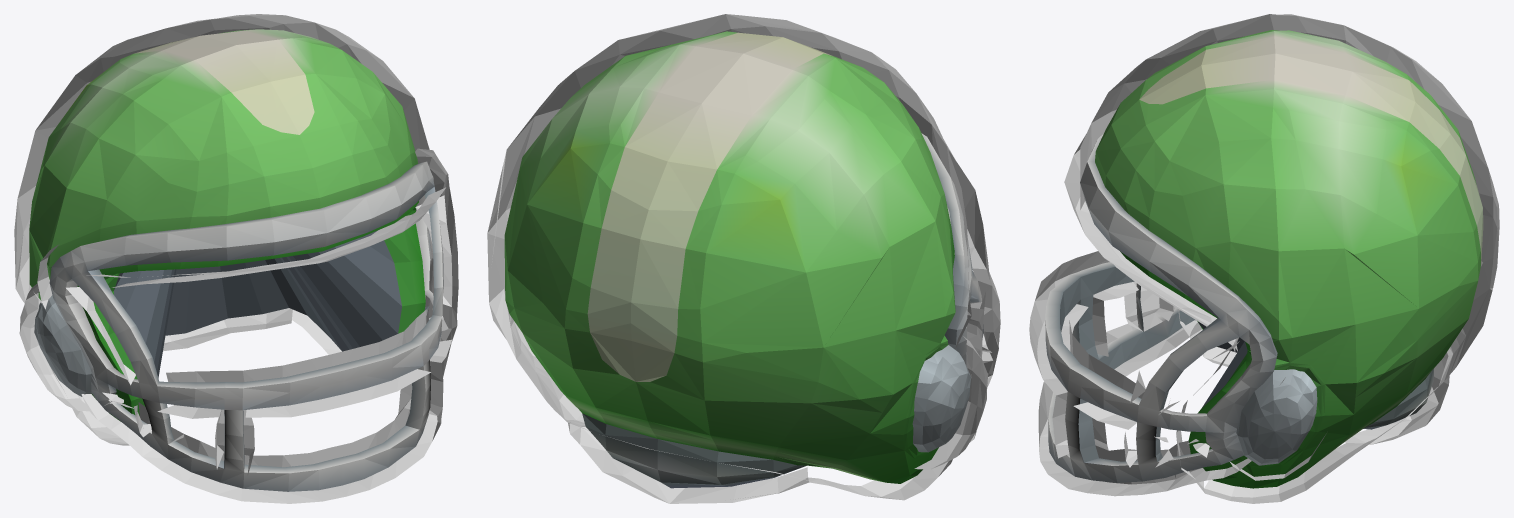
Rendered from Helmet.glb.
3 views of the same model, side by side, from view 1: azimuth 30°, elevation 25°; view 2: azimuth 150°, elevation 25°; view 3: azimuth 270°, elevation 25° (orthographic). The views are drawn at different scales.
Visible parts, largest first — view 1: NFLHelmet_outline; view 2: NFLHelmet_outline; view 3: NFLHelmet_outline.
Boxes of the visible parts, x1,y1,x2,y2 form: NFLHelmet_outline: [14, 14, 458, 503]; NFLHelmet_outline: [487, 14, 1000, 503]; NFLHelmet_outline: [1029, 14, 1499, 503].
Size of the model in its own units: 0.642 by 0.5711 by 0.5927.
